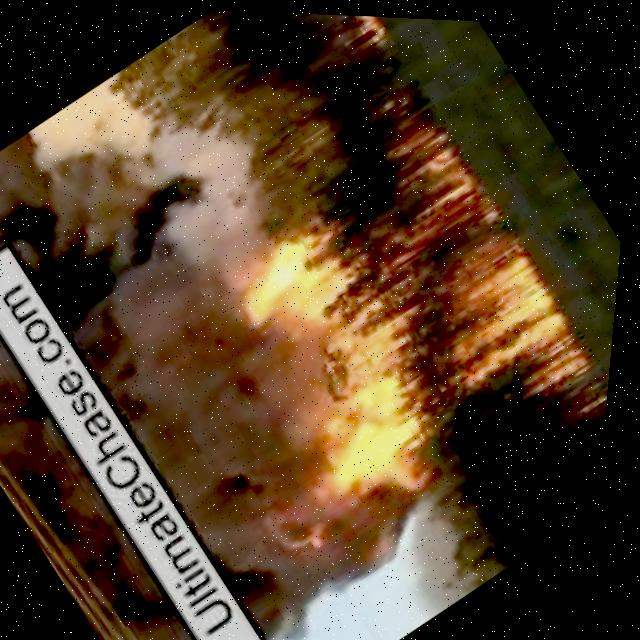Fire: (171, 109, 604, 524), (326, 11, 396, 57)
Smoke: (0, 92, 434, 640), (0, 209, 275, 640)
